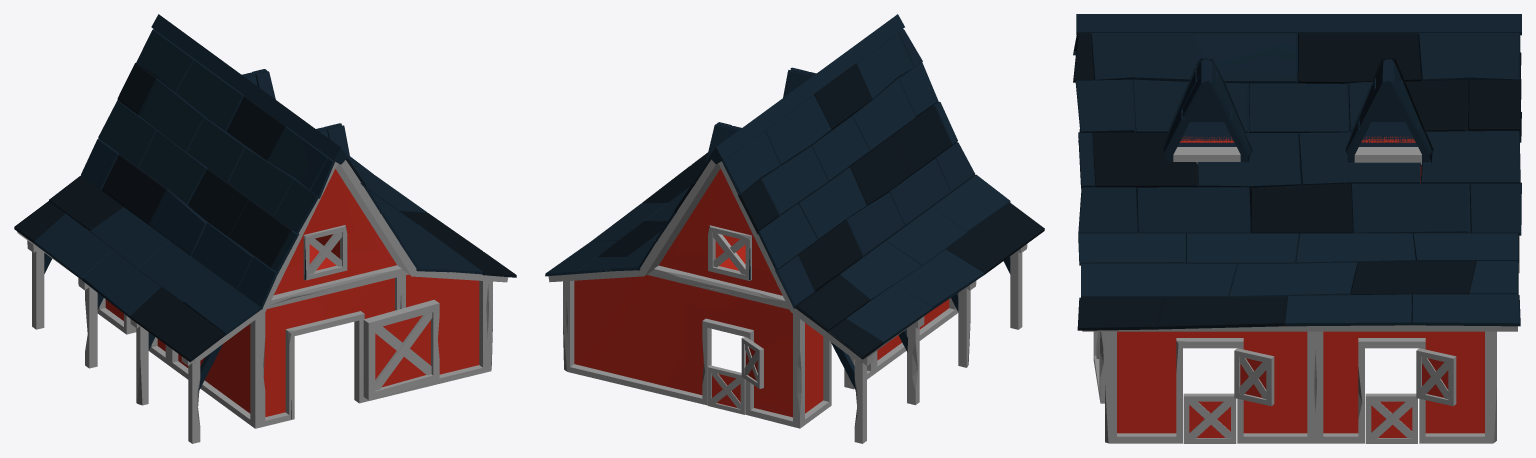
File: Stable.001.fbx
3 views of the same model, side by side, from view 1: azimuth 30°, elevation 25°; view 2: azimuth 150°, elevation 25°; view 3: azimuth 270°, elevation 25° (orthographic). The views are drawn at different scales.
Parts seen in each view (by area): view 1: Stable.001; view 2: Stable.001; view 3: Stable.001.
Part boxes in pixels (x1,y1,x2,y2): Stable.001: (14,14,516,443); Stable.001: (545,14,1044,443); Stable.001: (1073,14,1521,443).
Size of the model in its own units: 287 by 225 by 276.
